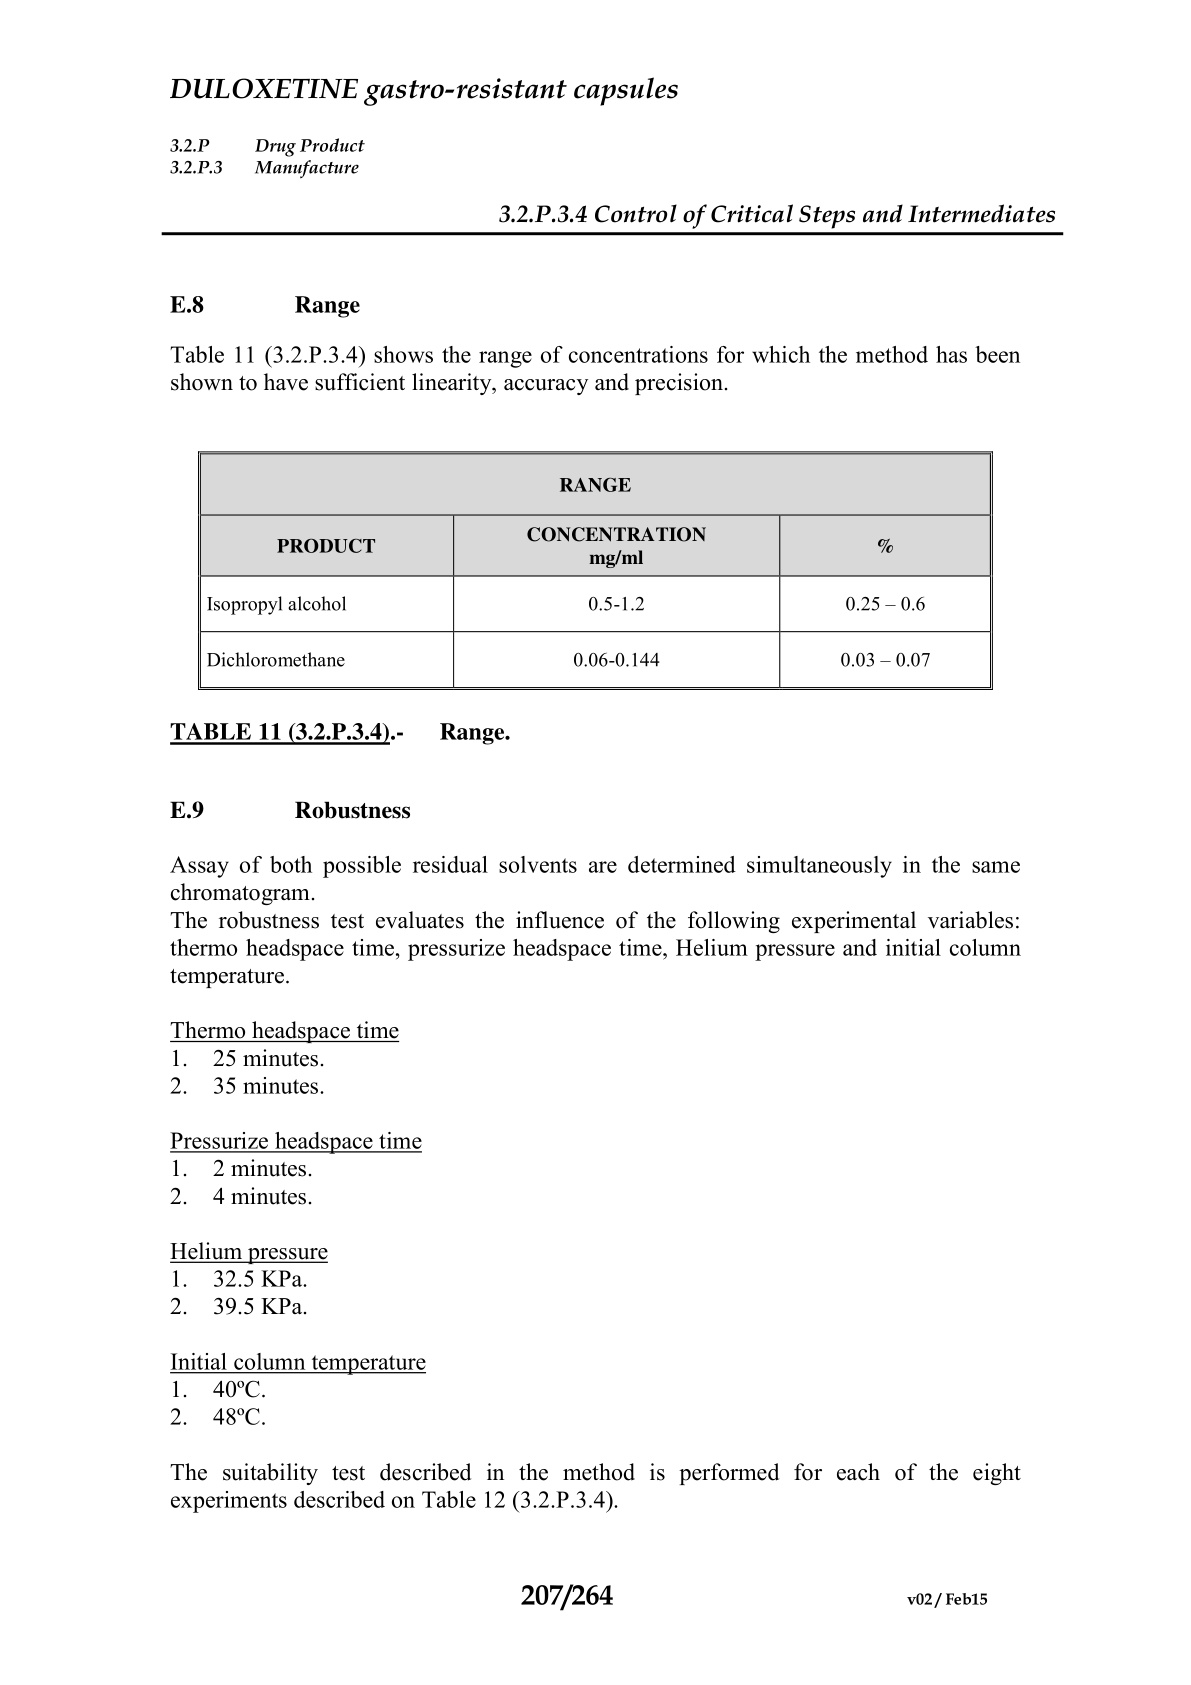merged_cells: (197, 449, 994, 692)
